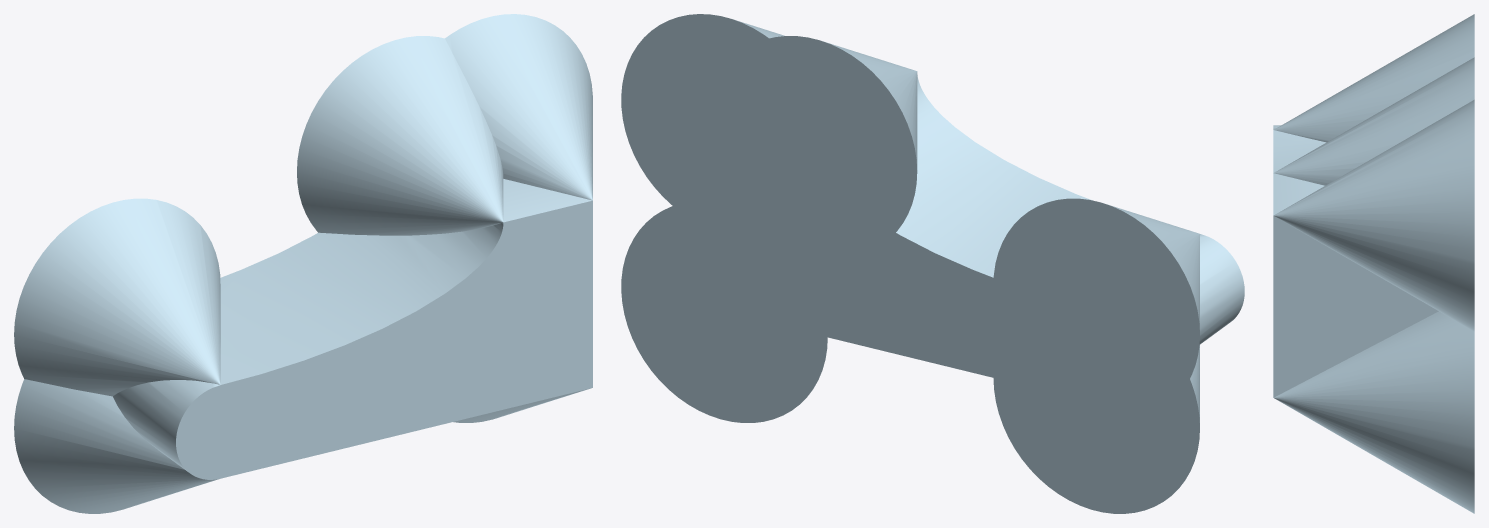
File: Engrave1.glb
3 renders of one model, left to right at view 1: azimuth 30°, elevation 25°; view 2: azimuth 150°, elevation 25°; view 3: azimuth 270°, elevation 25°, orthographic. The views are drawn at different scales.
Visible parts, largest first — view 1: Part 1; view 2: Part 1; view 3: Part 1.
Boxes of the visible parts, x1,y1,x2,y2 form: Part 1: [14, 14, 592, 513]; Part 1: [621, 14, 1244, 513]; Part 1: [1273, 14, 1474, 513].
Size of the model in its own units: 0.0822 by 0.0547 by 0.0254.
